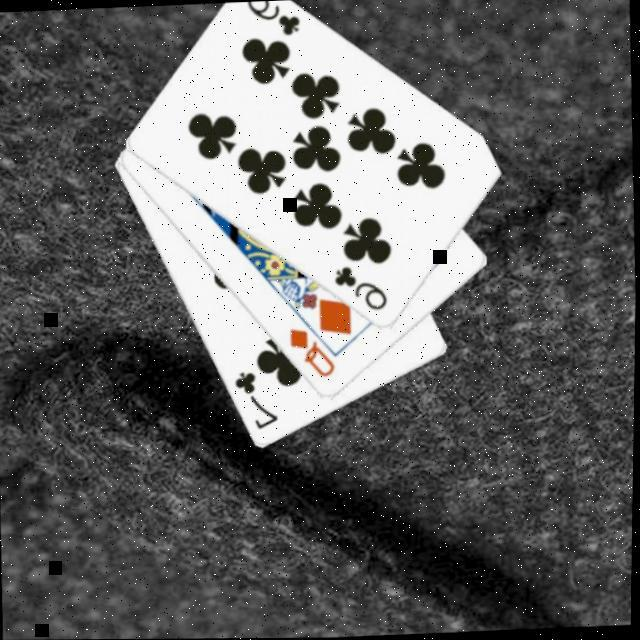7C: (230, 368, 282, 434)
9C: (328, 262, 390, 318), (240, 0, 302, 43)
QD: (284, 325, 338, 383)
